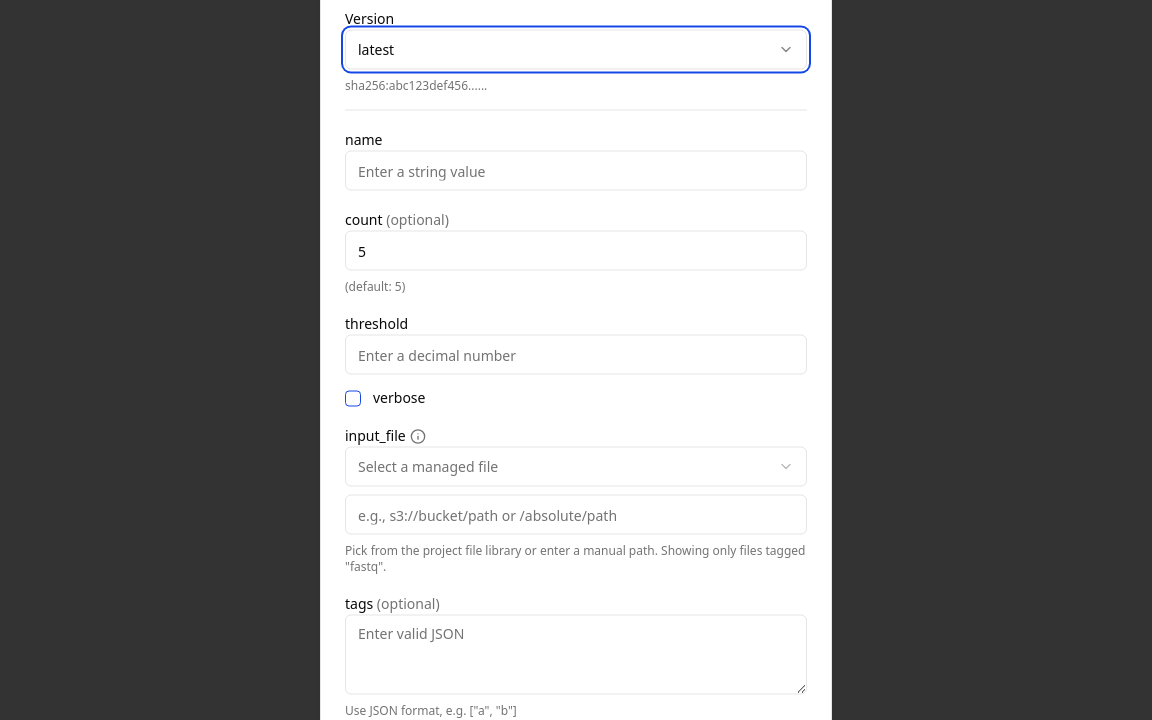
Scenario: RunWorkflowDialog › File input shows tooltip with server-accessible path explanation
Hover over the icon with test id "file-input-tooltip-trigger" at (418, 437), box [410,429,426,445]
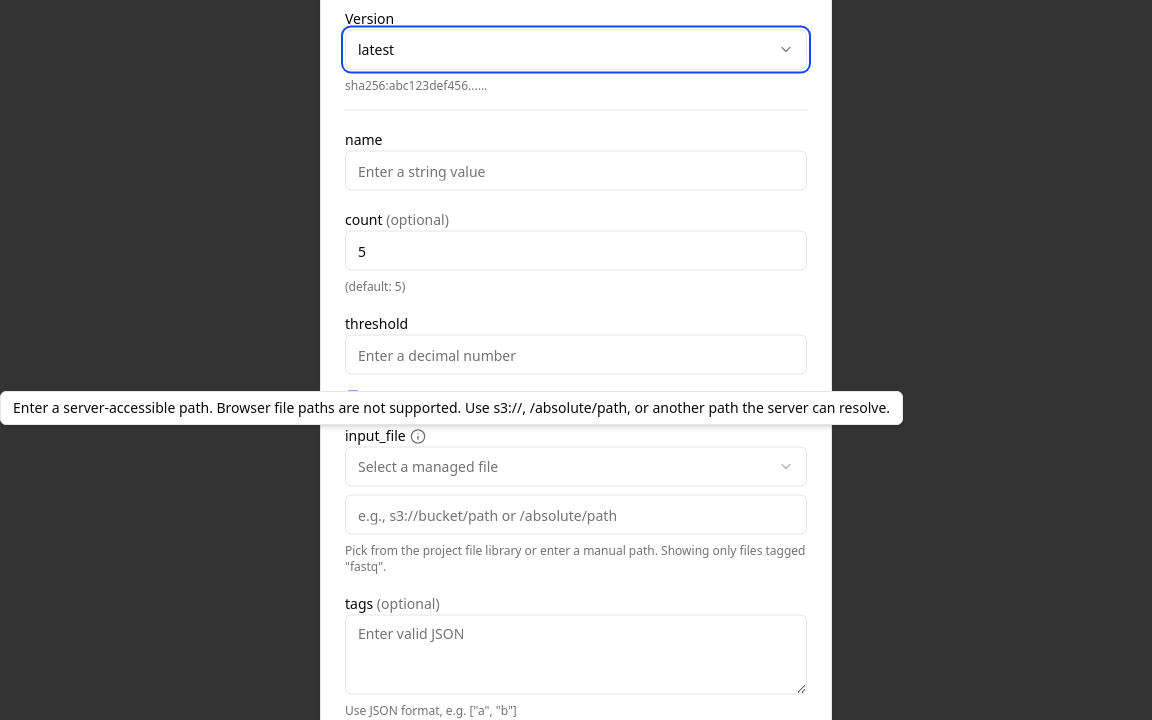
Check: the text "Enter a server-accessible path" is shown, box [13,398,890,417]
